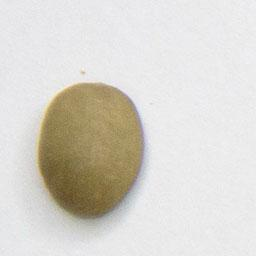premium: (35, 77, 147, 221)
